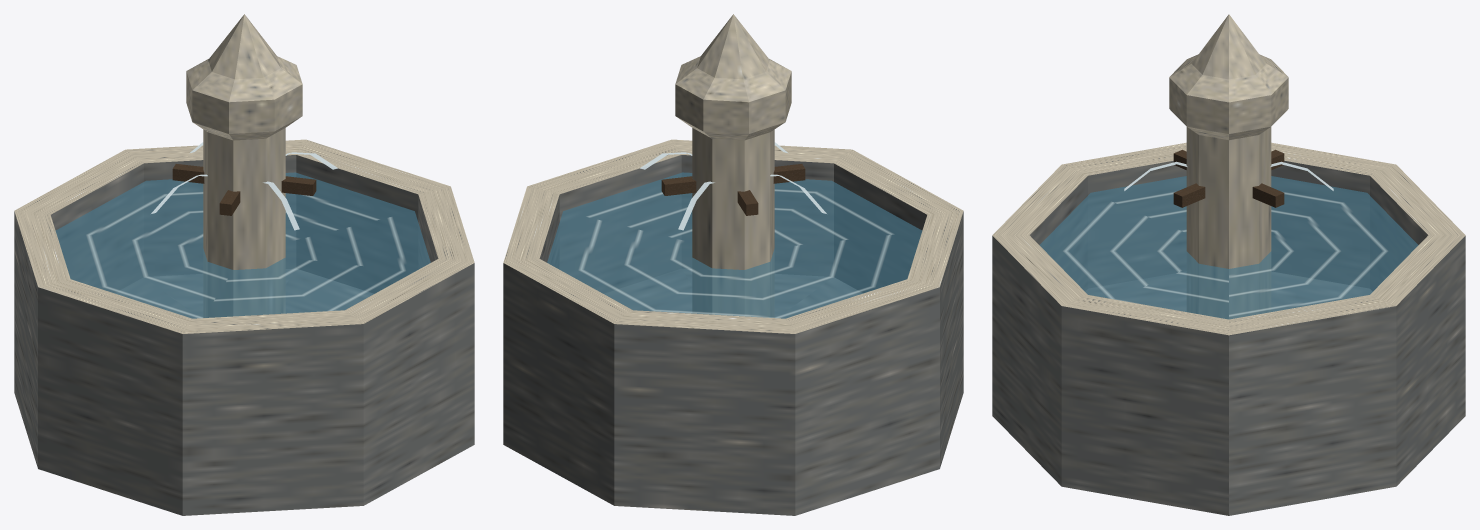
File: brunnen_v1.glb
3 renders of one model, left to right at view 1: azimuth 30°, elevation 25°; view 2: azimuth 150°, elevation 25°; view 3: azimuth 270°, elevation 25°, orthographic.
Visible parts, largest first — view 1: V1; view 2: V1; view 3: V1.
Boxes of the visible parts, <box> form: V1: <box>14,14,474,515</box>; V1: <box>503,14,963,515</box>; V1: <box>992,14,1465,515</box>.
Bounding box in the file's own units: 1.9 × 1.78 × 1.9.
2 materials, 2 textured.
